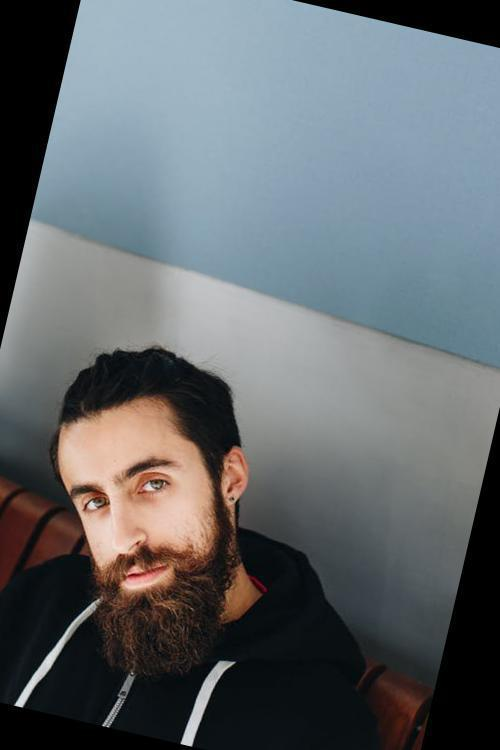Sober: (52, 422, 222, 615)
